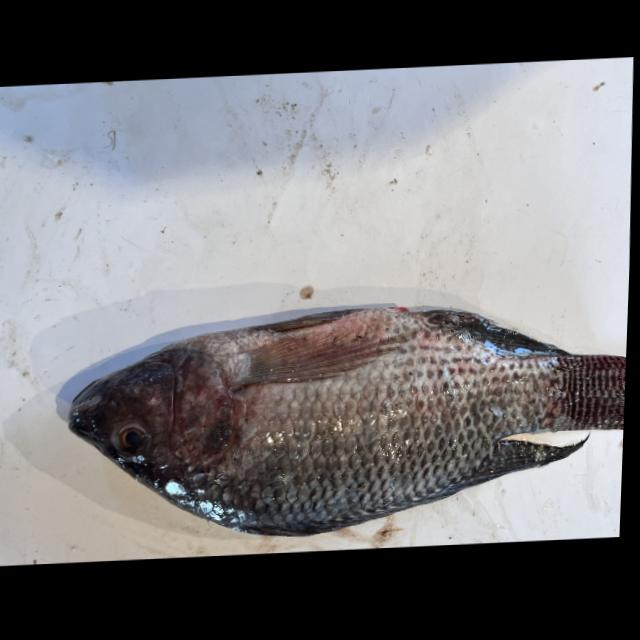Tilapia: (62, 288, 629, 546)
